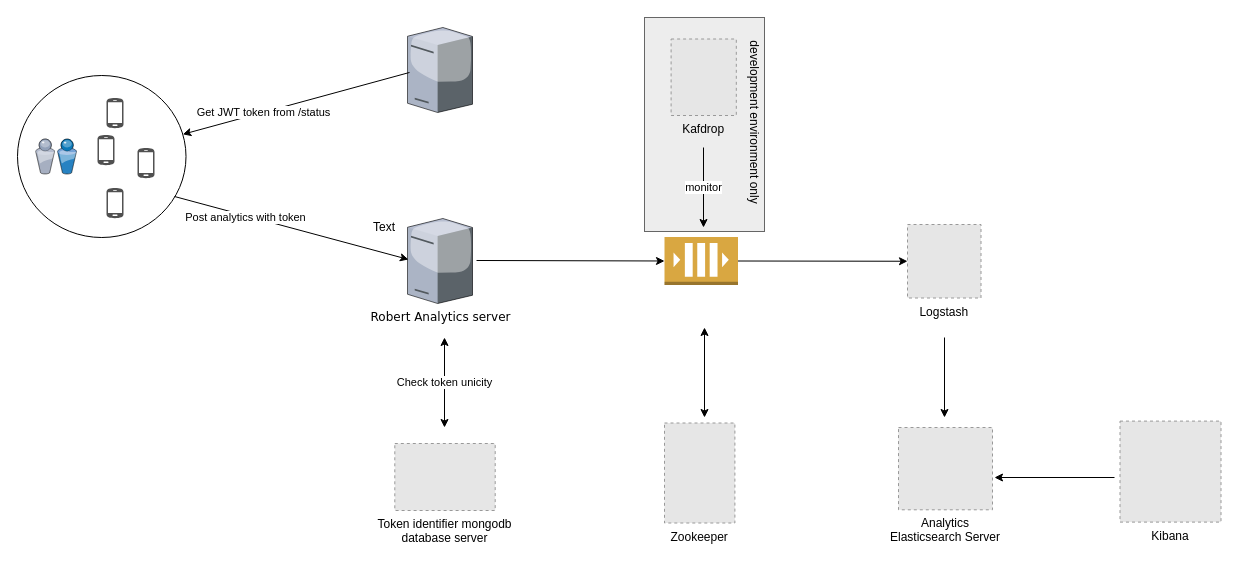
This 1239x563 diagram has some shape labels left out. Grey dashed boxes stand in for pictures. The box of each missing label's shape, as (x1, y1, x2, y2) in pixels:
Kafka: (664, 236, 738, 285)
Robert WS server: (407, 27, 472, 112)
Users: (35, 138, 76, 174)
